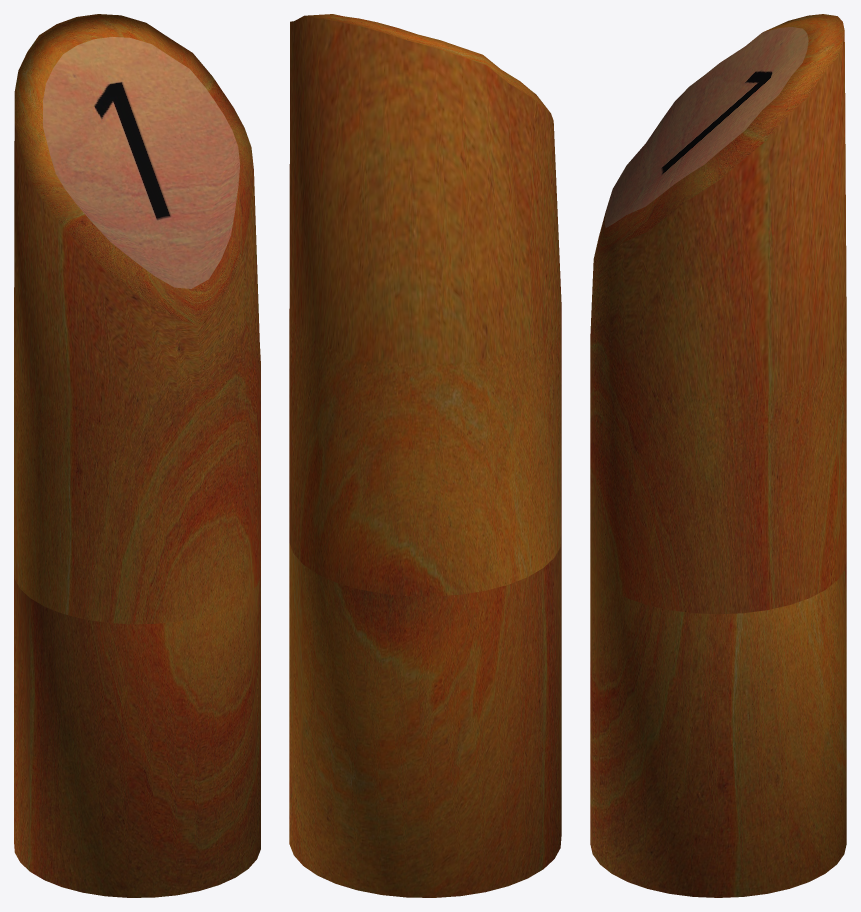
File: molkky.glb
3 renders of one model, left to right at view 1: azimuth 30°, elevation 25°; view 2: azimuth 150°, elevation 25°; view 3: azimuth 270°, elevation 25°, orthographic. The views are drawn at different scales.
Parts seen in each view (by area): view 1: Cylinder.003; view 2: Cylinder.003; view 3: Cylinder.003.
Part boxes in pixels (x1,y1,x2,y2): Cylinder.003: (14,14,260,897); Cylinder.003: (289,14,561,897); Cylinder.003: (590,14,846,897).
Size of the model in its own units: 0.4975 by 1.74 by 0.4975.
Materials: 1 (1 with a texture image).
